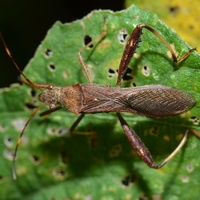insect: (0, 8, 199, 199)
